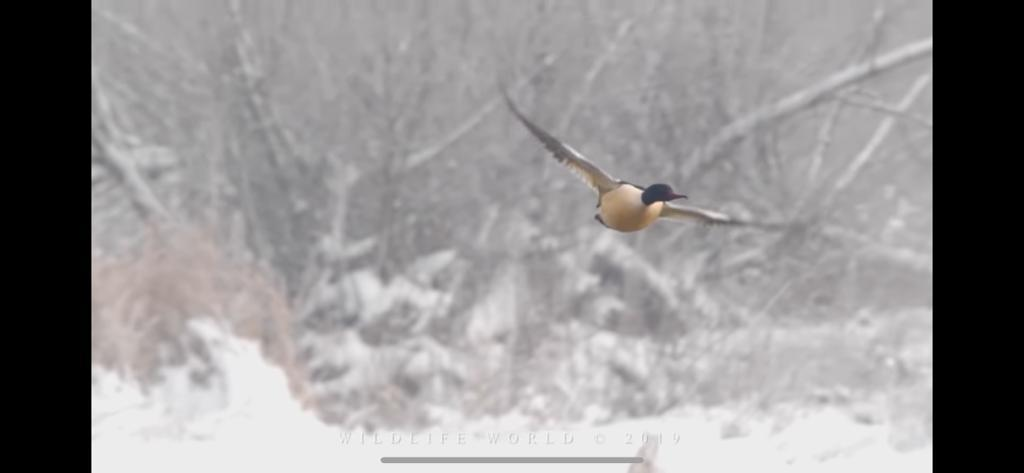drone_other: (497, 78, 812, 233)
